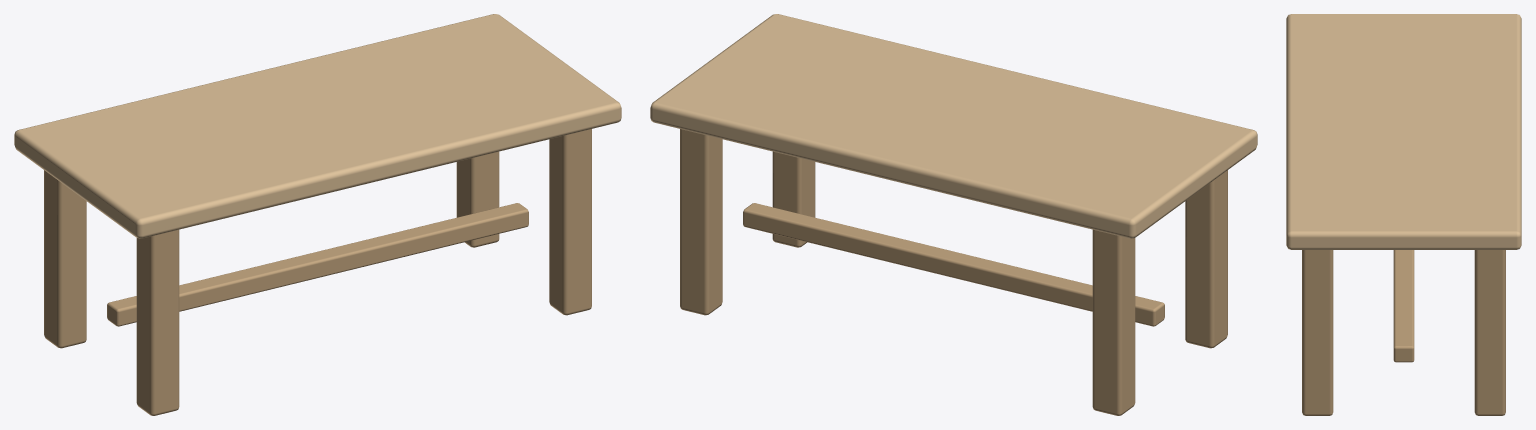
File: table_long.glb
3 views of the same model, side by side, from view 1: azimuth 30°, elevation 25°; view 2: azimuth 150°, elevation 25°; view 3: azimuth 270°, elevation 25° (orthographic). The views are drawn at different scales.
Parts seen in each view (by area): view 1: top, beam, leg-1-1, leg1-1, leg-11, leg11; view 2: top, beam, leg-11, leg11, leg-1-1, leg1-1; view 3: top, leg1-1, leg11, beam.
Part boxes in pixels (<box>): top: <box>14,14,621,238</box>; beam: <box>107,203,528,326</box>; leg-1-1: <box>136,229,179,415</box>; leg1-1: <box>549,129,591,315</box>; leg-11: <box>44,170,86,348</box>; leg11: <box>456,151,499,247</box>; top: <box>650,14,1257,238</box>; beam: <box>743,203,1164,326</box>; leg-11: <box>1092,229,1135,415</box>; leg11: <box>680,129,722,315</box>; leg-1-1: <box>1185,170,1227,348</box>; leg1-1: <box>772,151,815,247</box>; top: <box>1286,14,1521,249</box>; leg1-1: <box>1302,250,1333,415</box>; leg11: <box>1474,250,1505,415</box>; beam: <box>1393,250,1414,362</box>.
Bounding box in the file's own units: 2 × 0.82 × 0.9.
